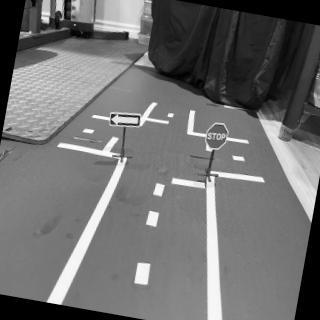sign_oneway_left: (108, 107, 145, 135)
sign_stop: (205, 122, 231, 152)
